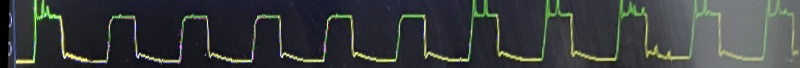hydrop_pressure: (447, 0, 799, 68), (11, 0, 96, 68)
normal_pressure: (102, 9, 456, 68)
